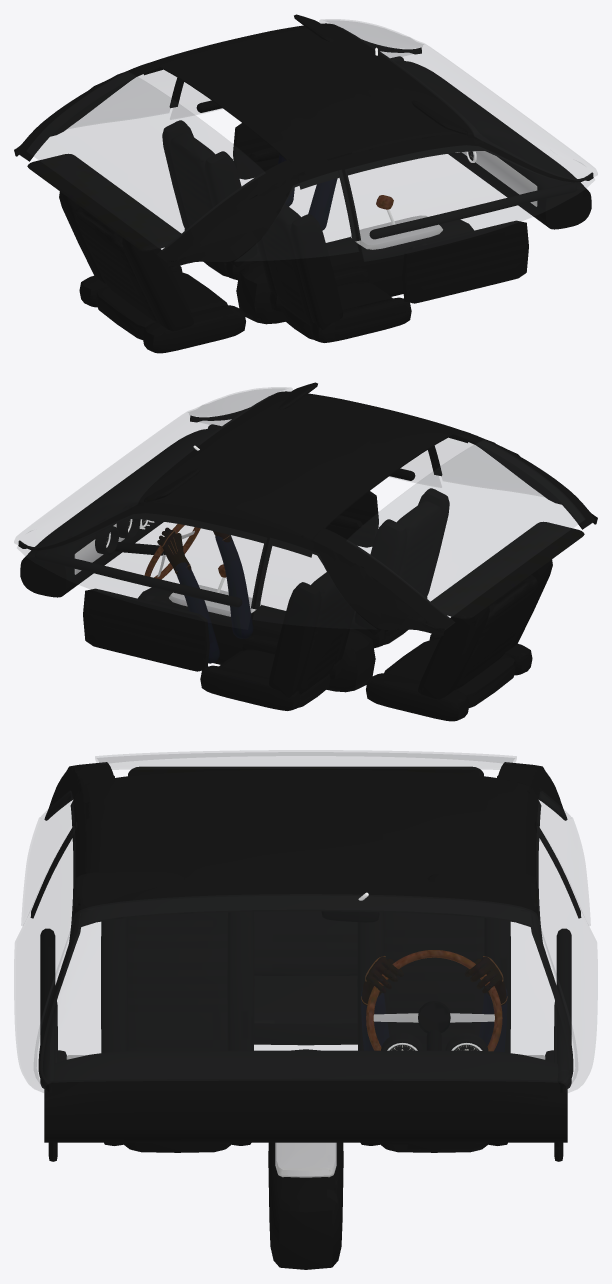
File: sv_stallion_cockpit.glb
The picture shows the model from 3 angles, top to bottom: view 1: azimuth 30°, elevation 25°; view 2: azimuth 150°, elevation 25°; view 3: azimuth 270°, elevation 25°; orthographic projection. The views are drawn at different scales.
Parts seen in each view (by area): view 1: cockpit_shell, cabin_glass, window_R, hands, window_L; view 2: cockpit_shell, cabin_glass, window_L, hands, steering_wheel, window_R; view 3: cockpit_shell, cabin_glass, window_L, window_R, hands, steering_wheel.
Boxes of the visible parts, x1,y1,x2,y2 form: cockpit_shell: [14, 14, 593, 353]; cabin_glass: [27, 19, 597, 260]; window_R: [345, 145, 594, 261]; hands: [278, 154, 337, 230]; window_L: [179, 82, 219, 114]; cockpit_shell: [18, 382, 597, 721]; cabin_glass: [14, 387, 584, 628]; window_L: [17, 513, 266, 629]; hands: [157, 527, 253, 663]; steering_wheel: [144, 524, 200, 579]; window_R: [392, 450, 432, 482]; cockpit_shell: [30, 762, 581, 1269]; cabin_glass: [21, 750, 590, 1088]; window_L: [537, 826, 597, 1092]; window_R: [14, 826, 74, 1092]; hands: [361, 956, 507, 1052]; steering_wheel: [366, 950, 502, 1051].
Size of the model in its own units: 2.15 by 1.1 by 1.71.
4 materials, 2 textured.
